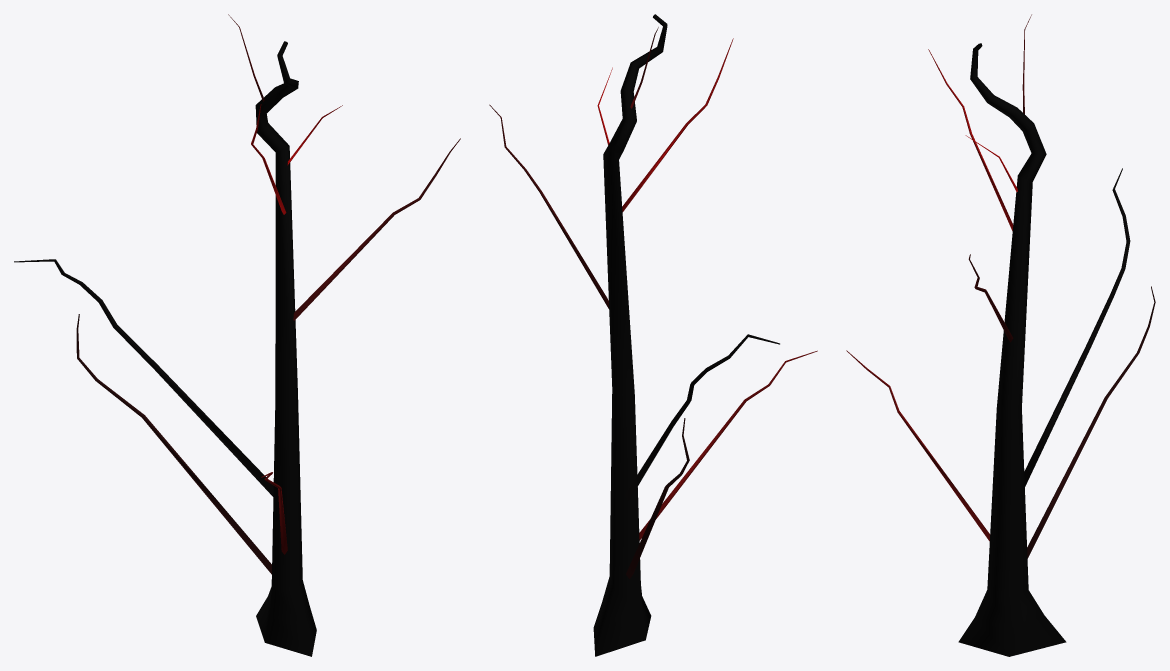
The model's file is Type_4_Tree_7.fbx.
3 views of the same model, side by side, from view 1: azimuth 30°, elevation 25°; view 2: azimuth 150°, elevation 25°; view 3: azimuth 270°, elevation 25° (orthographic). The views are drawn at different scales.
Visible parts, largest first — view 1: Trunk; view 2: Trunk; view 3: Trunk.
Boxes of the visible parts, left/top/right/bottom form: Trunk: left=14, top=14, right=460, bottom=656; Trunk: left=489, top=14, right=817, bottom=656; Trunk: left=846, top=14, right=1155, bottom=656.
Bounding box in the file's own units: 1429 × 2321 × 1072.
